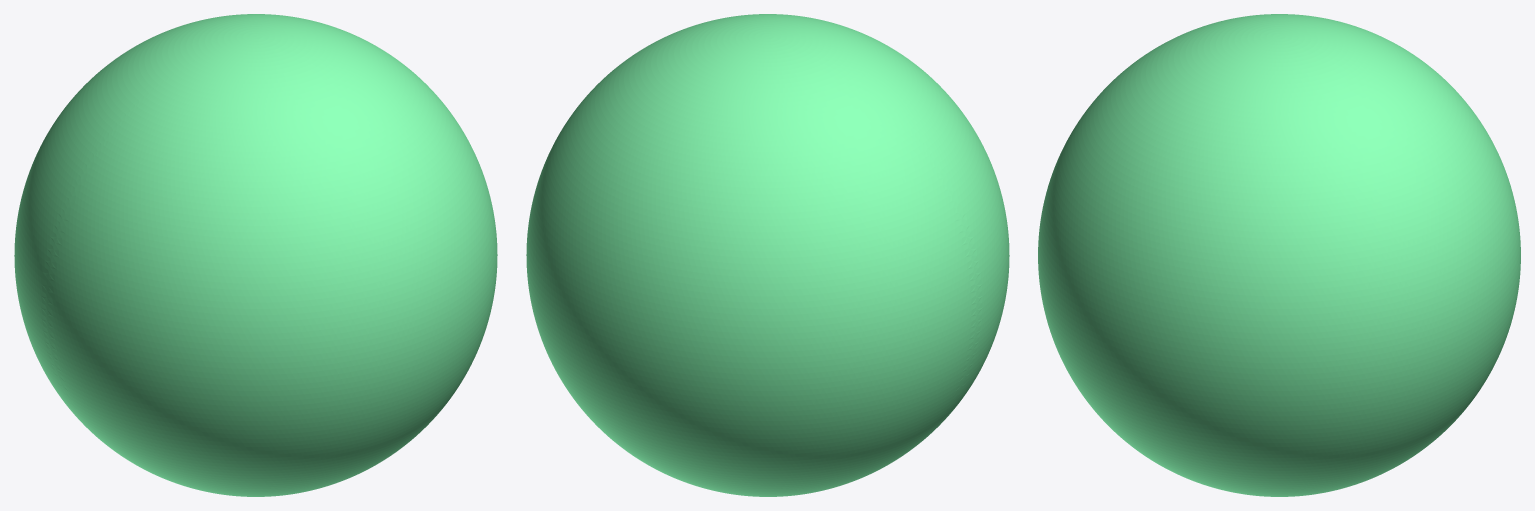
File: Algea.glb
3 renders of one model, left to right at view 1: azimuth 30°, elevation 25°; view 2: azimuth 150°, elevation 25°; view 3: azimuth 270°, elevation 25°, orthographic.
Parts seen in each view (by area): view 1: Node1; view 2: Node1; view 3: Node1.
Part boxes in pixels (x1,y1,x2,y2): Node1: (14, 14, 497, 496); Node1: (526, 14, 1009, 496); Node1: (1038, 14, 1520, 496).
Bounding box in the file's own units: 413 × 413 × 413.
